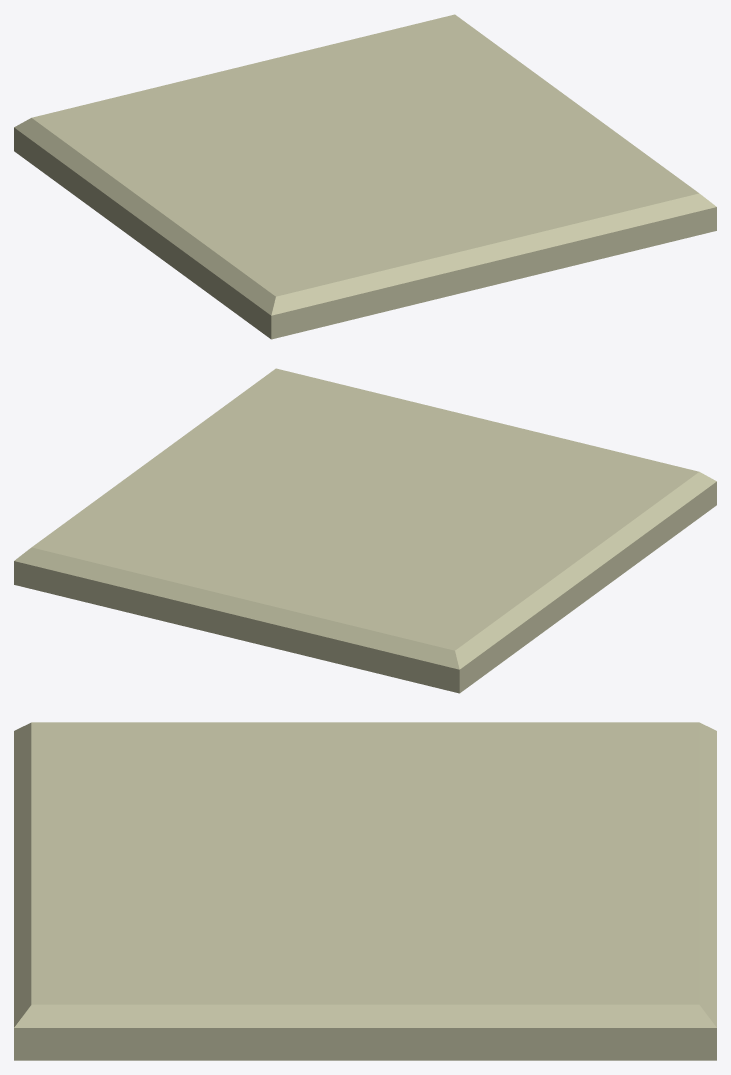
The model's file is Path1.fbx.
The picture shows the model from 3 angles, top to bottom: view 1: azimuth 30°, elevation 25°; view 2: azimuth 150°, elevation 25°; view 3: azimuth 270°, elevation 25°; orthographic projection. The views are drawn at different scales.
Parts seen in each view (by area): view 1: Path1; view 2: Path1; view 3: Path1.
Boxes of the visible parts, x1,y1,x2,y2 form: Path1: (14,14,716,339); Path1: (14,368,716,693); Path1: (14,722,716,1060).
Size of the model in its own units: 150 by 11.42 by 150.
